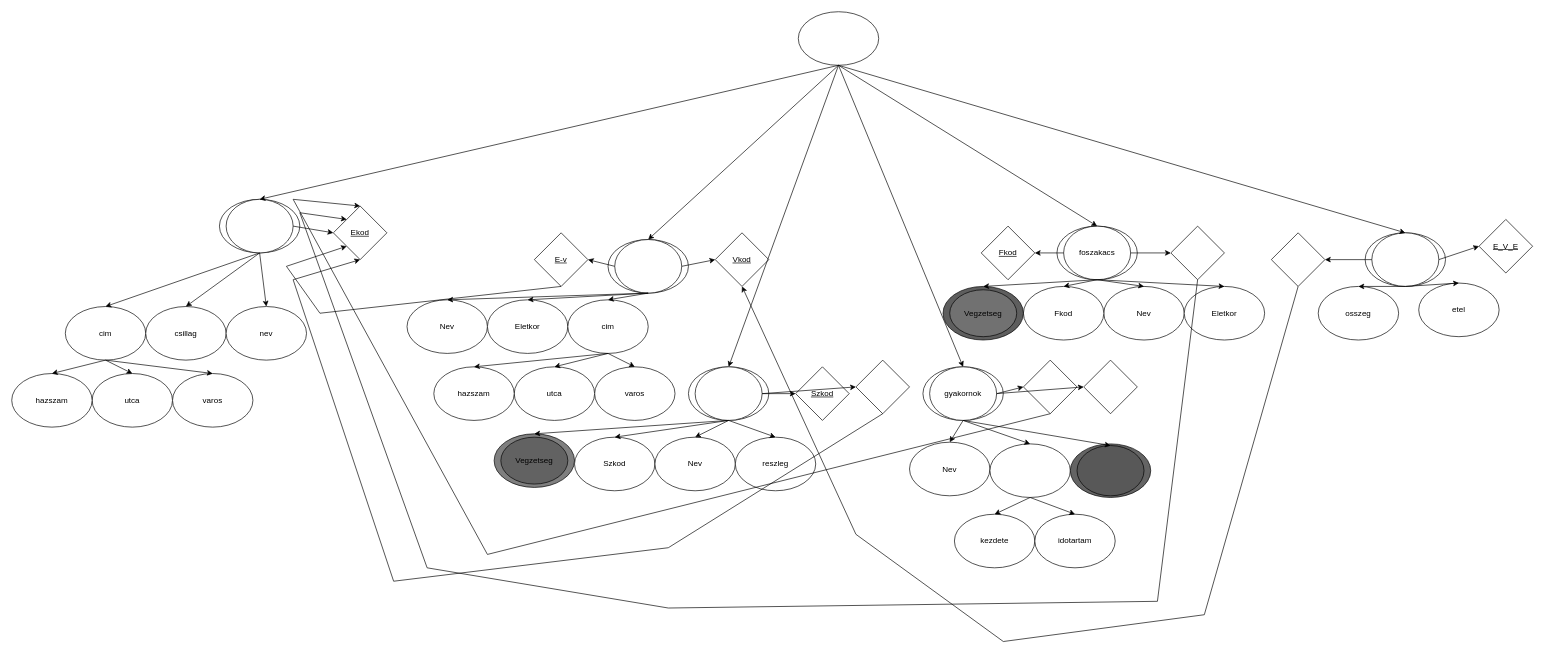
Image size: 1544x659. Some labels were removed from this diagram. Here are the shapes that lost their labels. From the top down, the centre of each, then its label:
At [838,38]: "vendeglatas".
At [259,226]: "etterem".
At [648,266]: "vendeg".
At [1197,252]: "E-f".
At [1298,259]: "E-V-V".
At [1405,259]: "rendeles".
At [728,393]: "szakacs".
At [882,386]: "E-sz".
At [1050,386]: "E-gy".
At [1110,386]: "Gykod".
At [1029,470]: "gyakorlat".
At [1110,470]: "muszak".
